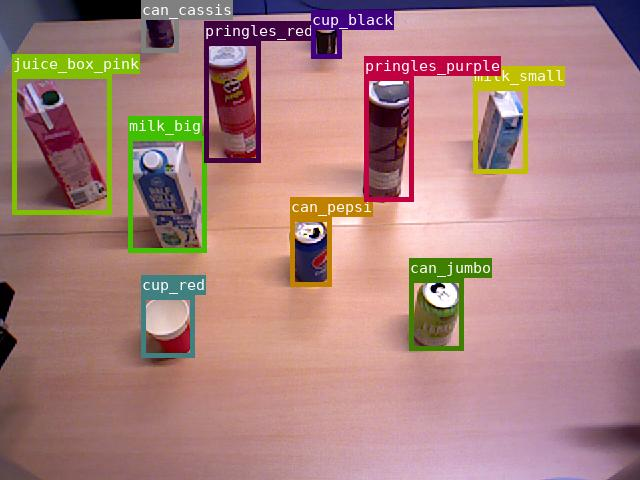can_cassis: (141, 0, 178, 52)
can_jumbo: (409, 278, 463, 350)
can_pepsi: (290, 217, 331, 286)
cup_black: (311, 10, 341, 58)
cup_red: (141, 295, 194, 357)
juice_box_pink: (12, 74, 111, 214)
milk_big: (128, 136, 206, 252)
milk_small: (473, 86, 527, 173)
pringles_purple: (364, 76, 413, 201)
pringles_red: (204, 41, 260, 162)
